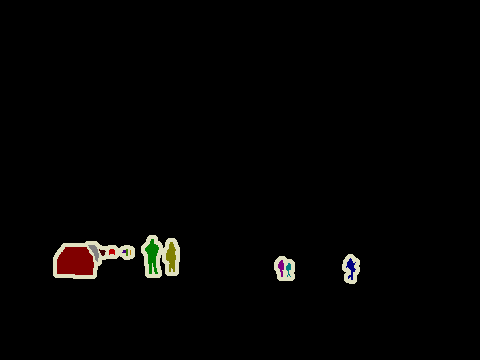car: (58, 245, 96, 275), (83, 244, 102, 265), (98, 250, 107, 258), (108, 248, 117, 256), (122, 250, 128, 255)
person: (145, 239, 162, 273), (165, 241, 179, 273), (344, 258, 358, 283), (278, 259, 286, 279), (286, 262, 293, 279), (130, 250, 133, 256), (127, 249, 129, 256)
